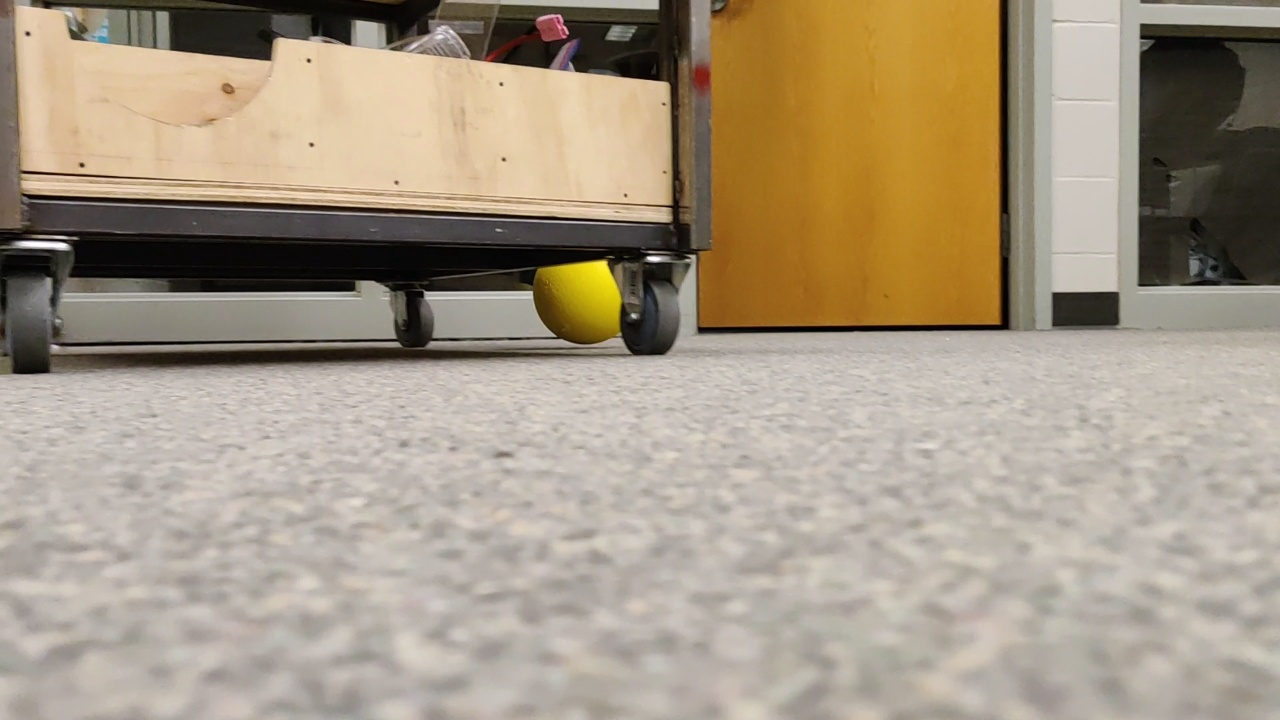Ball: (526, 253, 634, 346)
